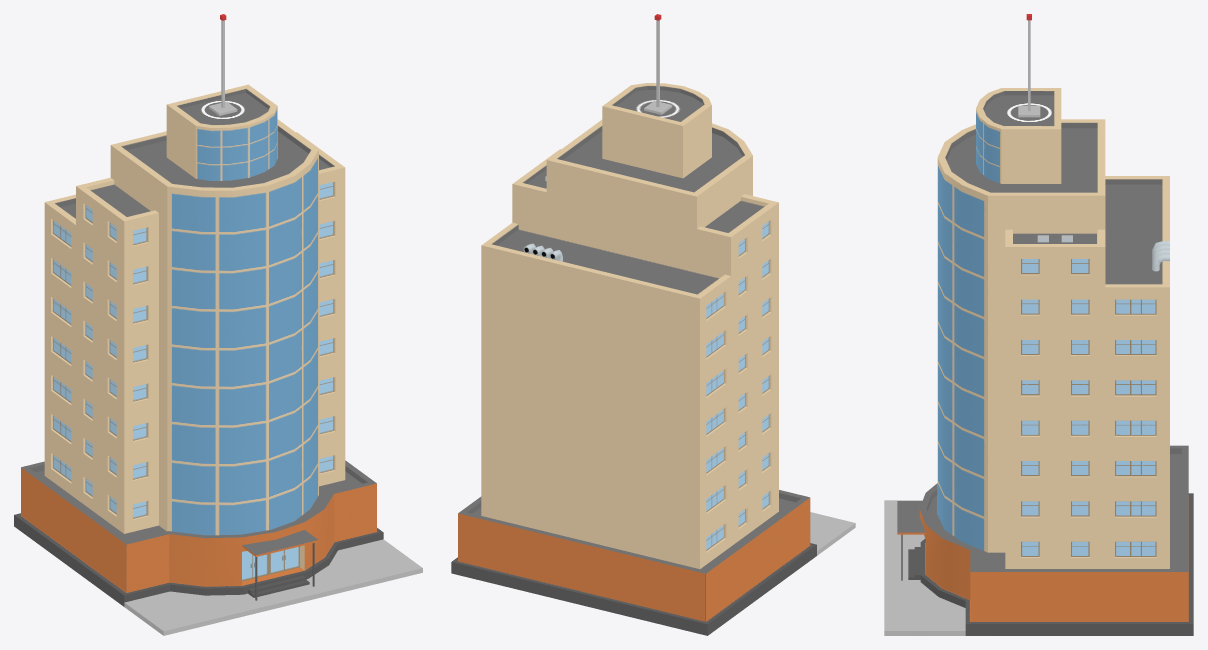
File: Building8.glb
3 views of the same model, side by side, from view 1: azimuth 30°, elevation 25°; view 2: azimuth 150°, elevation 25°; view 3: azimuth 270°, elevation 25° (orthographic). The views are drawn at different scales.
Visible parts, largest first — view 1: Box134; view 2: Box134; view 3: Box134.
Boxes of the visible parts, x1=… form: Box134: x1=14, y1=14, x2=422, y2=635; Box134: x1=451, y1=14, x2=855, y2=635; Box134: x1=884, y1=14, x2=1193, y2=635.
Size of the model in its own units: 12 by 23.79 by 12.
Materials: 1 (1 with a texture image).
